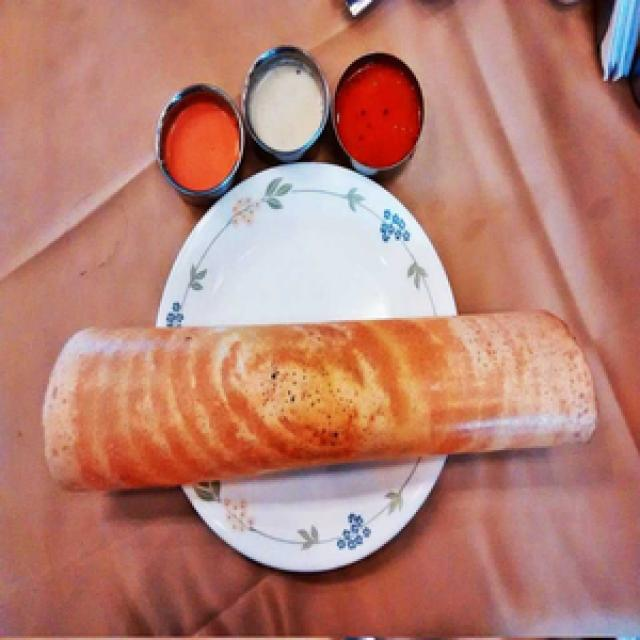dosa: (27, 301, 640, 504)
